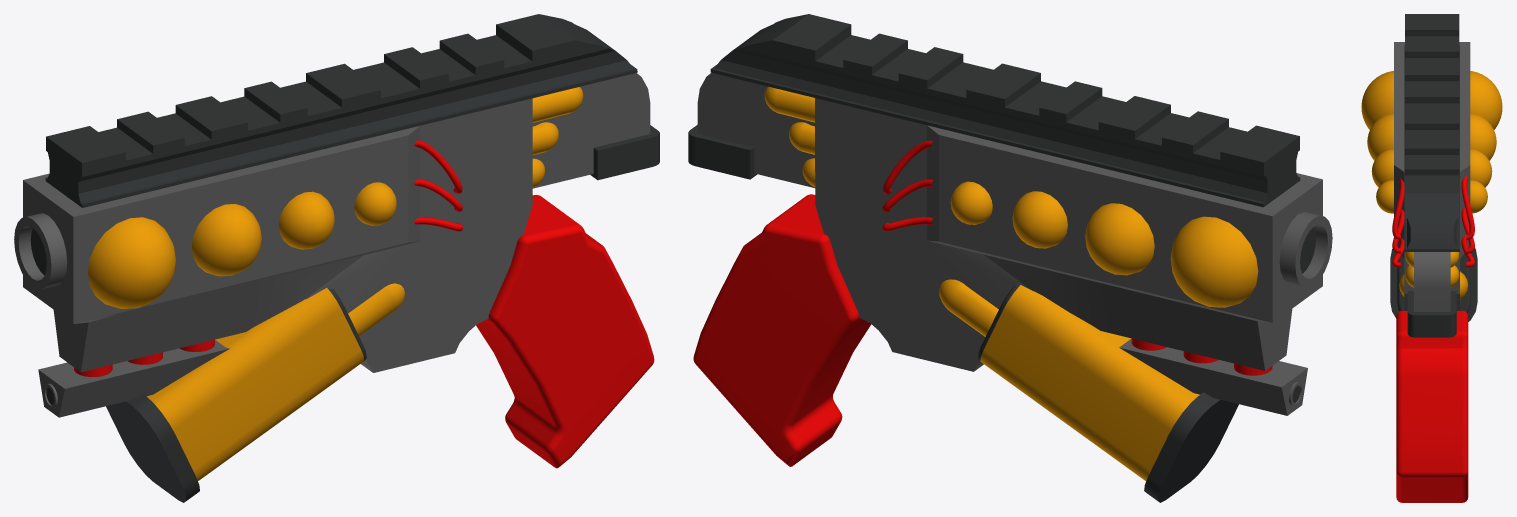
File: weapon_pistolLaser_model.fbx
3 views of the same model, side by side, from view 1: azimuth 30°, elevation 25°; view 2: azimuth 150°, elevation 25°; view 3: azimuth 270°, elevation 25° (orthographic). The views are drawn at different scales.
Parts seen in each view (by area): view 1: Pistol_Laser; view 2: Pistol_Laser; view 3: Pistol_Laser.
Boxes of the visible parts, x1=… form: Pistol_Laser: x1=14, y1=14, x2=659, y2=502; Pistol_Laser: x1=688, y1=14, x2=1332, y2=502; Pistol_Laser: x1=1361, y1=14, x2=1502, y2=502.
Bounding box in the file's own units: 15.48 × 10.13 × 4.08.
